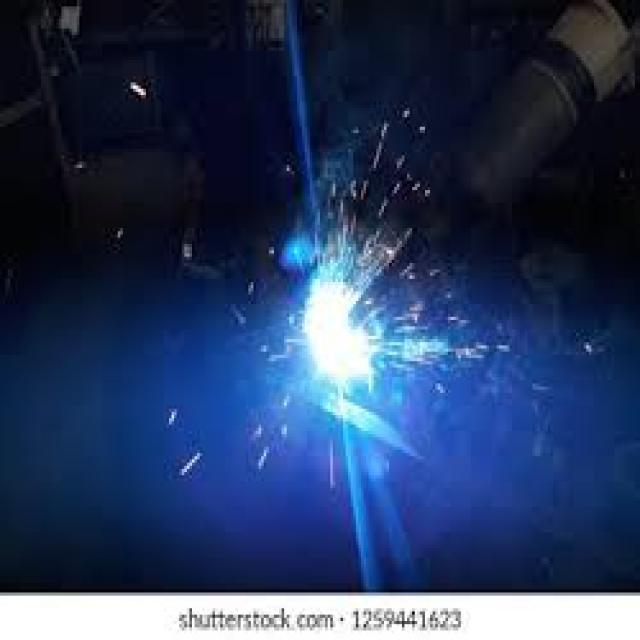welding: (300, 271, 380, 396)
